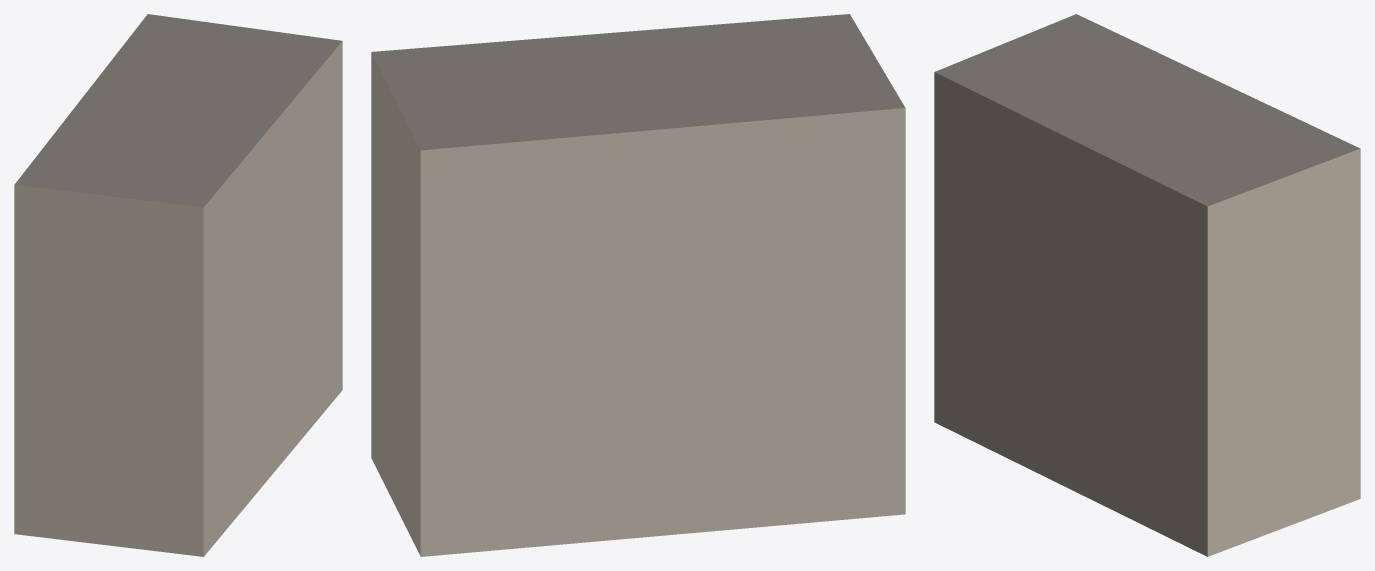
3 views of the same model, side by side, from view 1: azimuth 30°, elevation 25°; view 2: azimuth 150°, elevation 25°; view 3: azimuth 270°, elevation 25° (orthographic). The views are drawn at different scales.
Parts seen in each view (by area): view 1: HP-w729793777; view 2: HP-w729793777; view 3: HP-w729793777.
Boxes of the visible parts, <box> form: HP-w729793777: <box>14,14,342,556</box>; HP-w729793777: <box>371,14,905,556</box>; HP-w729793777: <box>934,14,1360,556</box>.
Bounding box in the file's own units: 21.22 × 18 × 19.84.
